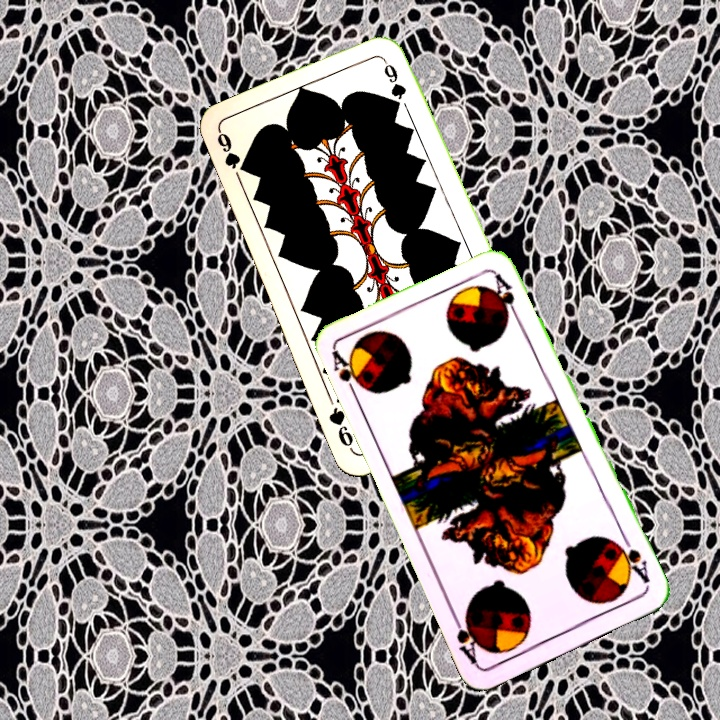G9: (213, 128, 245, 174)
SA: (611, 532, 653, 586), (327, 346, 364, 403)
